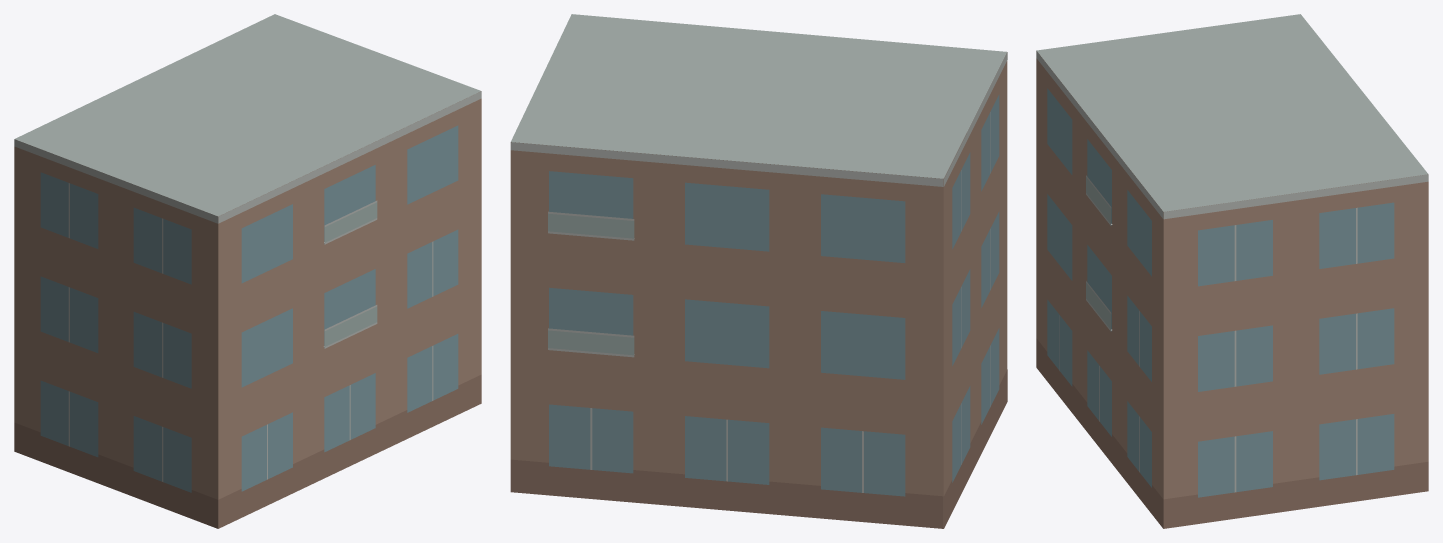
Rendered from survey-upis-32922102.glb.
3 renders of one model, left to right at view 1: azimuth 30°, elevation 25°; view 2: azimuth 150°, elevation 25°; view 3: azimuth 270°, elevation 25°, orthographic. The views are drawn at different scales.
Parts seen in each view (by area): view 1: survey-upis-32922102.tmp; view 2: survey-upis-32922102.tmp; view 3: survey-upis-32922102.tmp.
Part boxes in pixels (left/top/right/bottom): survey-upis-32922102.tmp: left=14, top=14, right=481, bottom=528; survey-upis-32922102.tmp: left=510, top=14, right=1007, bottom=528; survey-upis-32922102.tmp: left=1036, top=14, right=1428, bottom=528.
Size of the model in its own units: 13.94 by 10.4 by 11.67.
